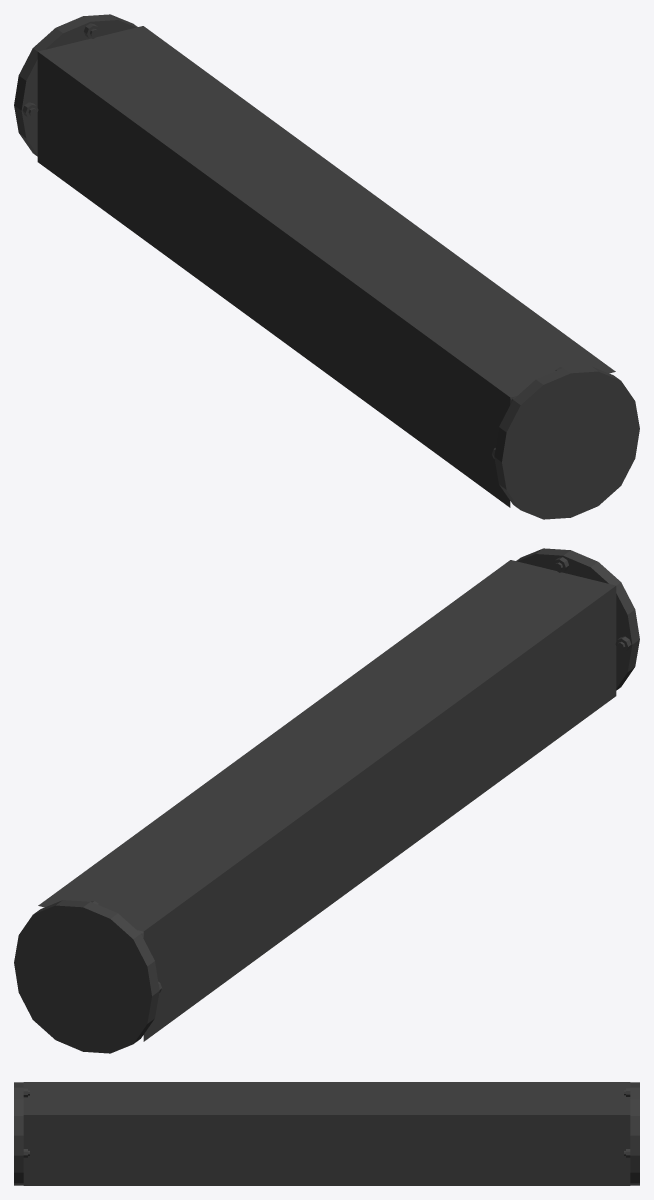
3 views of the same model, one above another, from view 1: azimuth 30°, elevation 25°; view 2: azimuth 150°, elevation 25°; view 3: azimuth 270°, elevation 25° (orthographic). The views are drawn at different scales.
Parts seen in each view (by area): view 1: world; view 2: world; view 3: world.
Boxes of the visible parts, bbox=[...] form: world: bbox=[14, 14, 639, 519]; world: bbox=[14, 548, 639, 1053]; world: bbox=[14, 1082, 639, 1185].
Size of the model in its own units: 0.6536 by 0.6536 by 4.
1 material, 1 textured.
